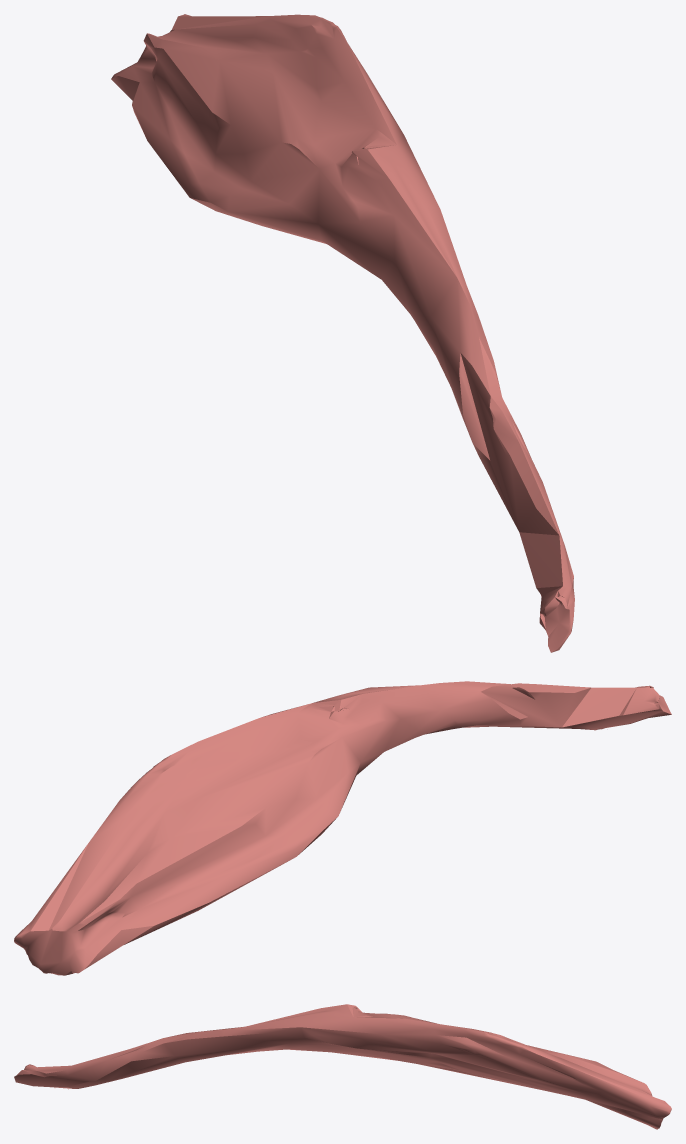
Rendered from fma37459_fj1400.glb.
3 views of the same model, one above another, from view 1: azimuth 30°, elevation 25°; view 2: azimuth 150°, elevation 25°; view 3: azimuth 270°, elevation 25° (orthographic). The views are drawn at different scales.
Parts seen in each view (by area): view 1: FMA37459_FJ1400; view 2: FMA37459_FJ1400; view 3: FMA37459_FJ1400.
Part boxes in pixels (left/top/right/bottom): FMA37459_FJ1400: left=111, top=14, right=574, bottom=652; FMA37459_FJ1400: left=14, top=681, right=671, bottom=975; FMA37459_FJ1400: left=14, top=1004, right=671, bottom=1129.
Size of the model in its own units: 0.0352 by 0.026 by 0.1362.
